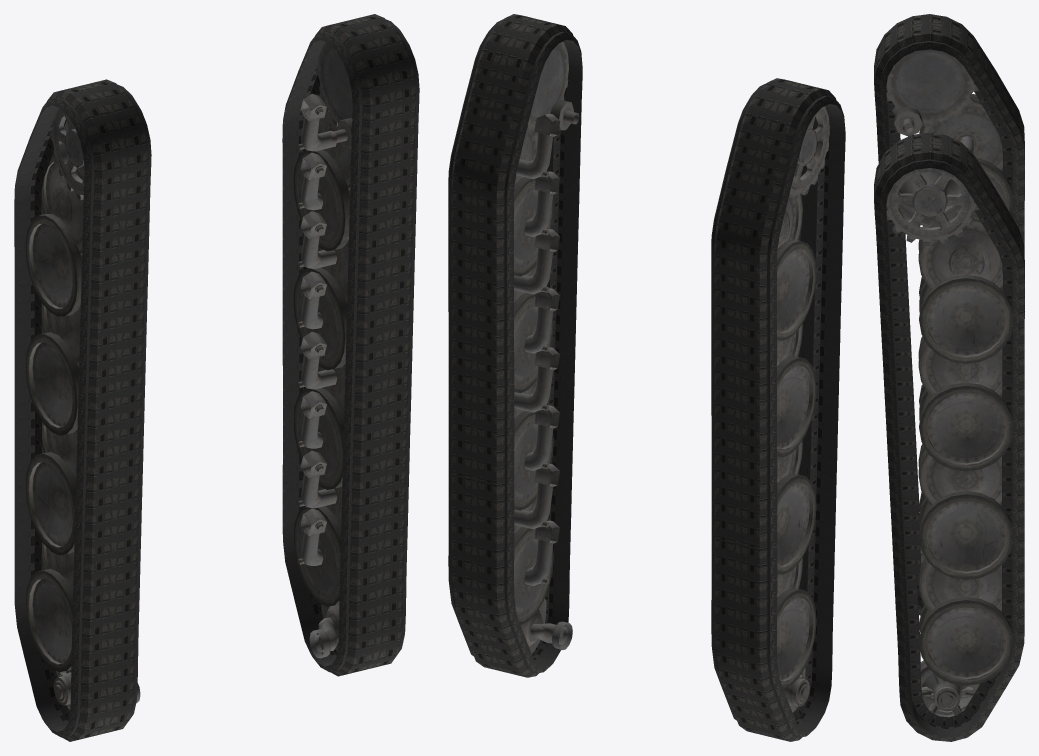
File: Chassis.glb
3 views of the same model, side by side, from view 1: azimuth 30°, elevation 25°; view 2: azimuth 150°, elevation 25°; view 3: azimuth 270°, elevation 25° (orthographic). The views are drawn at different scales.
Parts seen in each view (by area): view 1: set_3_group_0, set_2_group_0, set_0_group_0, set_1_group_0; view 2: set_3_group_0, set_2_group_0, set_0_group_0, set_1_group_0; view 3: set_0_group_0, set_2_group_0, set_3_group_0, set_1_group_0.
Boxes of the visible parts, x1,y1,x2,y2 form: set_3_group_0: (14,79,151,741); set_2_group_0: (282,14,419,676); set_0_group_0: (293,42,352,658); set_1_group_0: (25,108,140,710); set_3_group_0: (711,78,845,741); set_2_group_0: (448,14,582,677); set_0_group_0: (514,41,579,653); set_1_group_0: (777,106,829,712); set_0_group_0: (886,168,1012,717); set_2_group_0: (874,132,1024,741); set_3_group_0: (874,14,1024,615); set_1_group_0: (886,49,1012,604).
Bounding box in the file's own units: 3.32 × 6.16 × 1.43.
4 materials, 4 textured.
